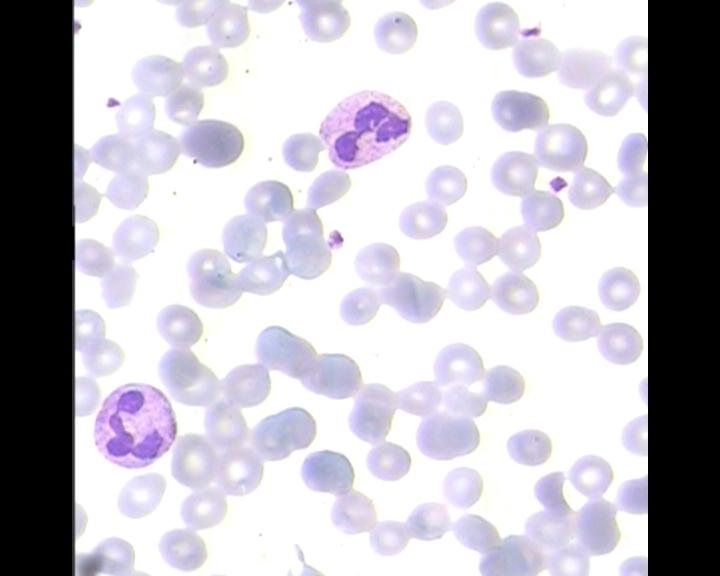neut: (91, 376, 179, 472), (316, 82, 414, 168)
